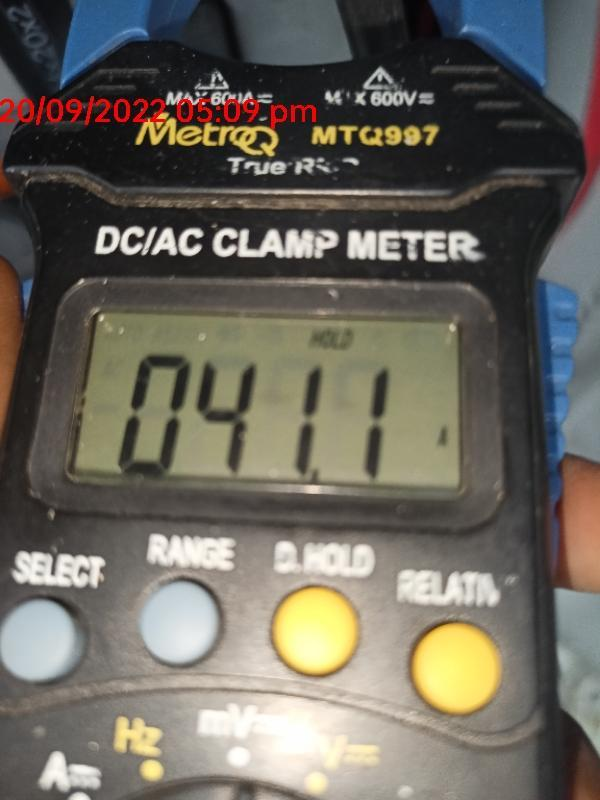ClampMeter_Display: (53, 296, 480, 514)
